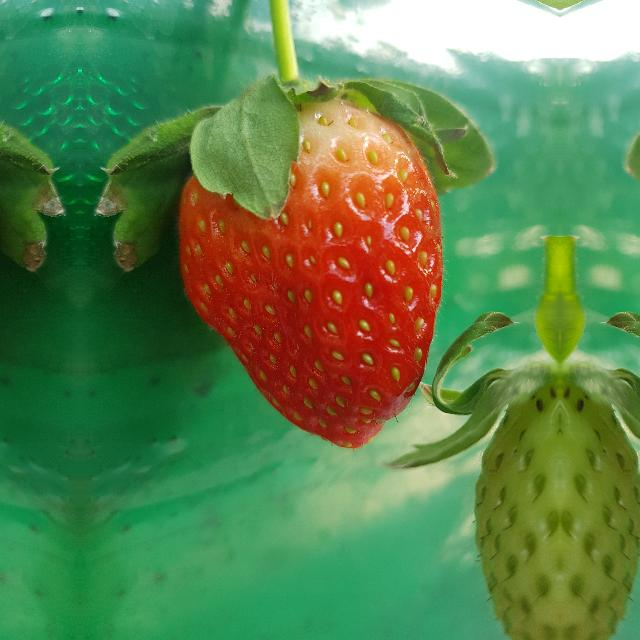Health_100: (176, 102, 442, 446)
